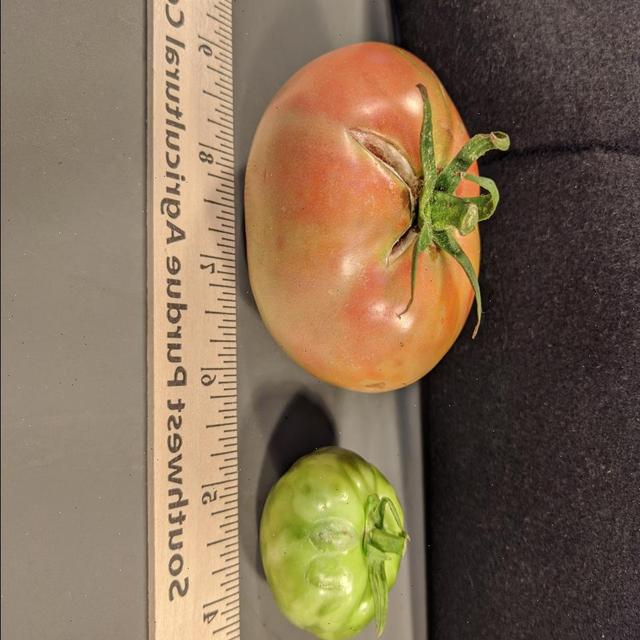Spotted wilt Virus Fruit: (226, 182, 315, 427)
